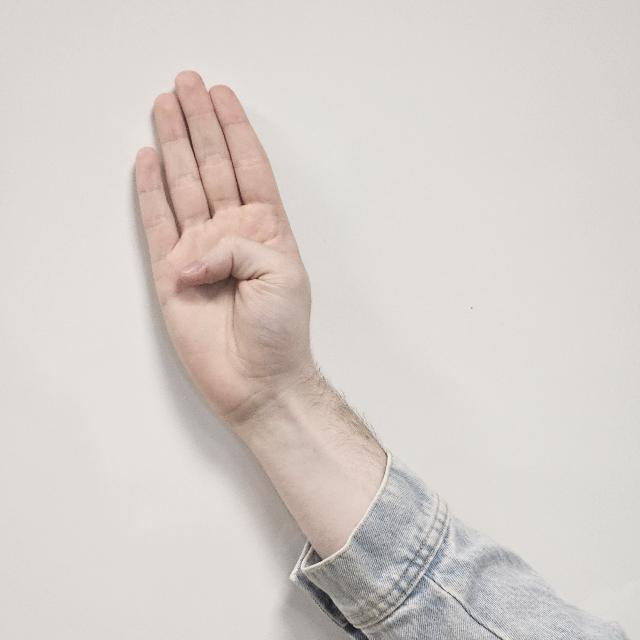Baixo: (93, 76, 334, 420)
